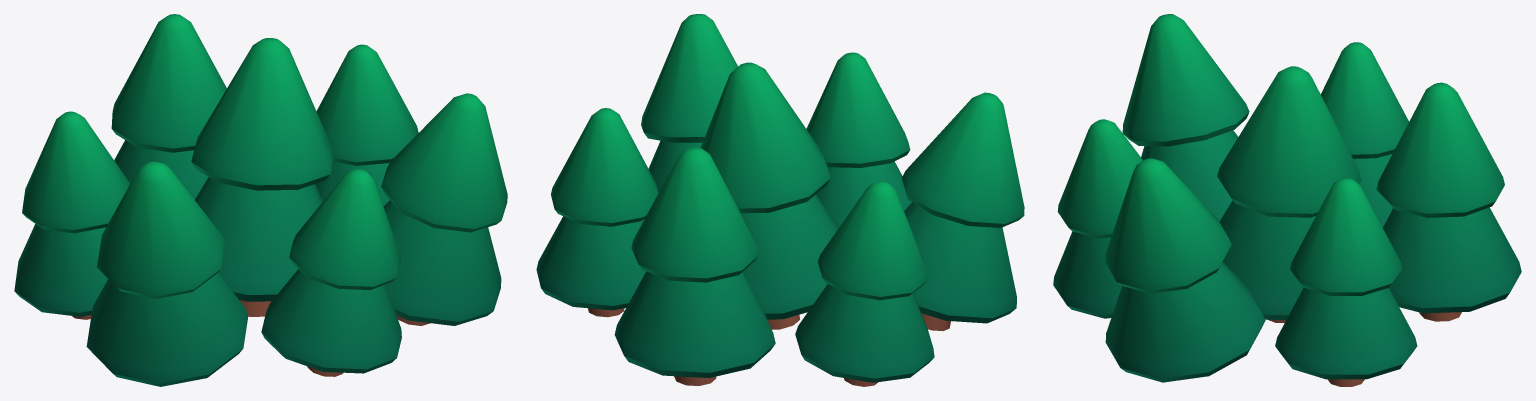
File: trees_B_large.glb
The picture shows the model from 3 angles, left to right: view 1: azimuth 30°, elevation 25°; view 2: azimuth 150°, elevation 25°; view 3: azimuth 270°, elevation 25°; orthographic projection. The views are drawn at different scales.
Visible parts, largest first — view 1: trees_B_large; view 2: trees_B_large; view 3: trees_B_large.
Boxes of the visible parts, bbox=[...] form: trees_B_large: bbox=[14, 14, 507, 386]; trees_B_large: bbox=[536, 14, 1024, 386]; trees_B_large: bbox=[1053, 14, 1521, 386].
Size of the model in its own units: 1.85 by 1.17 by 1.93.
1 material, 1 textured.
